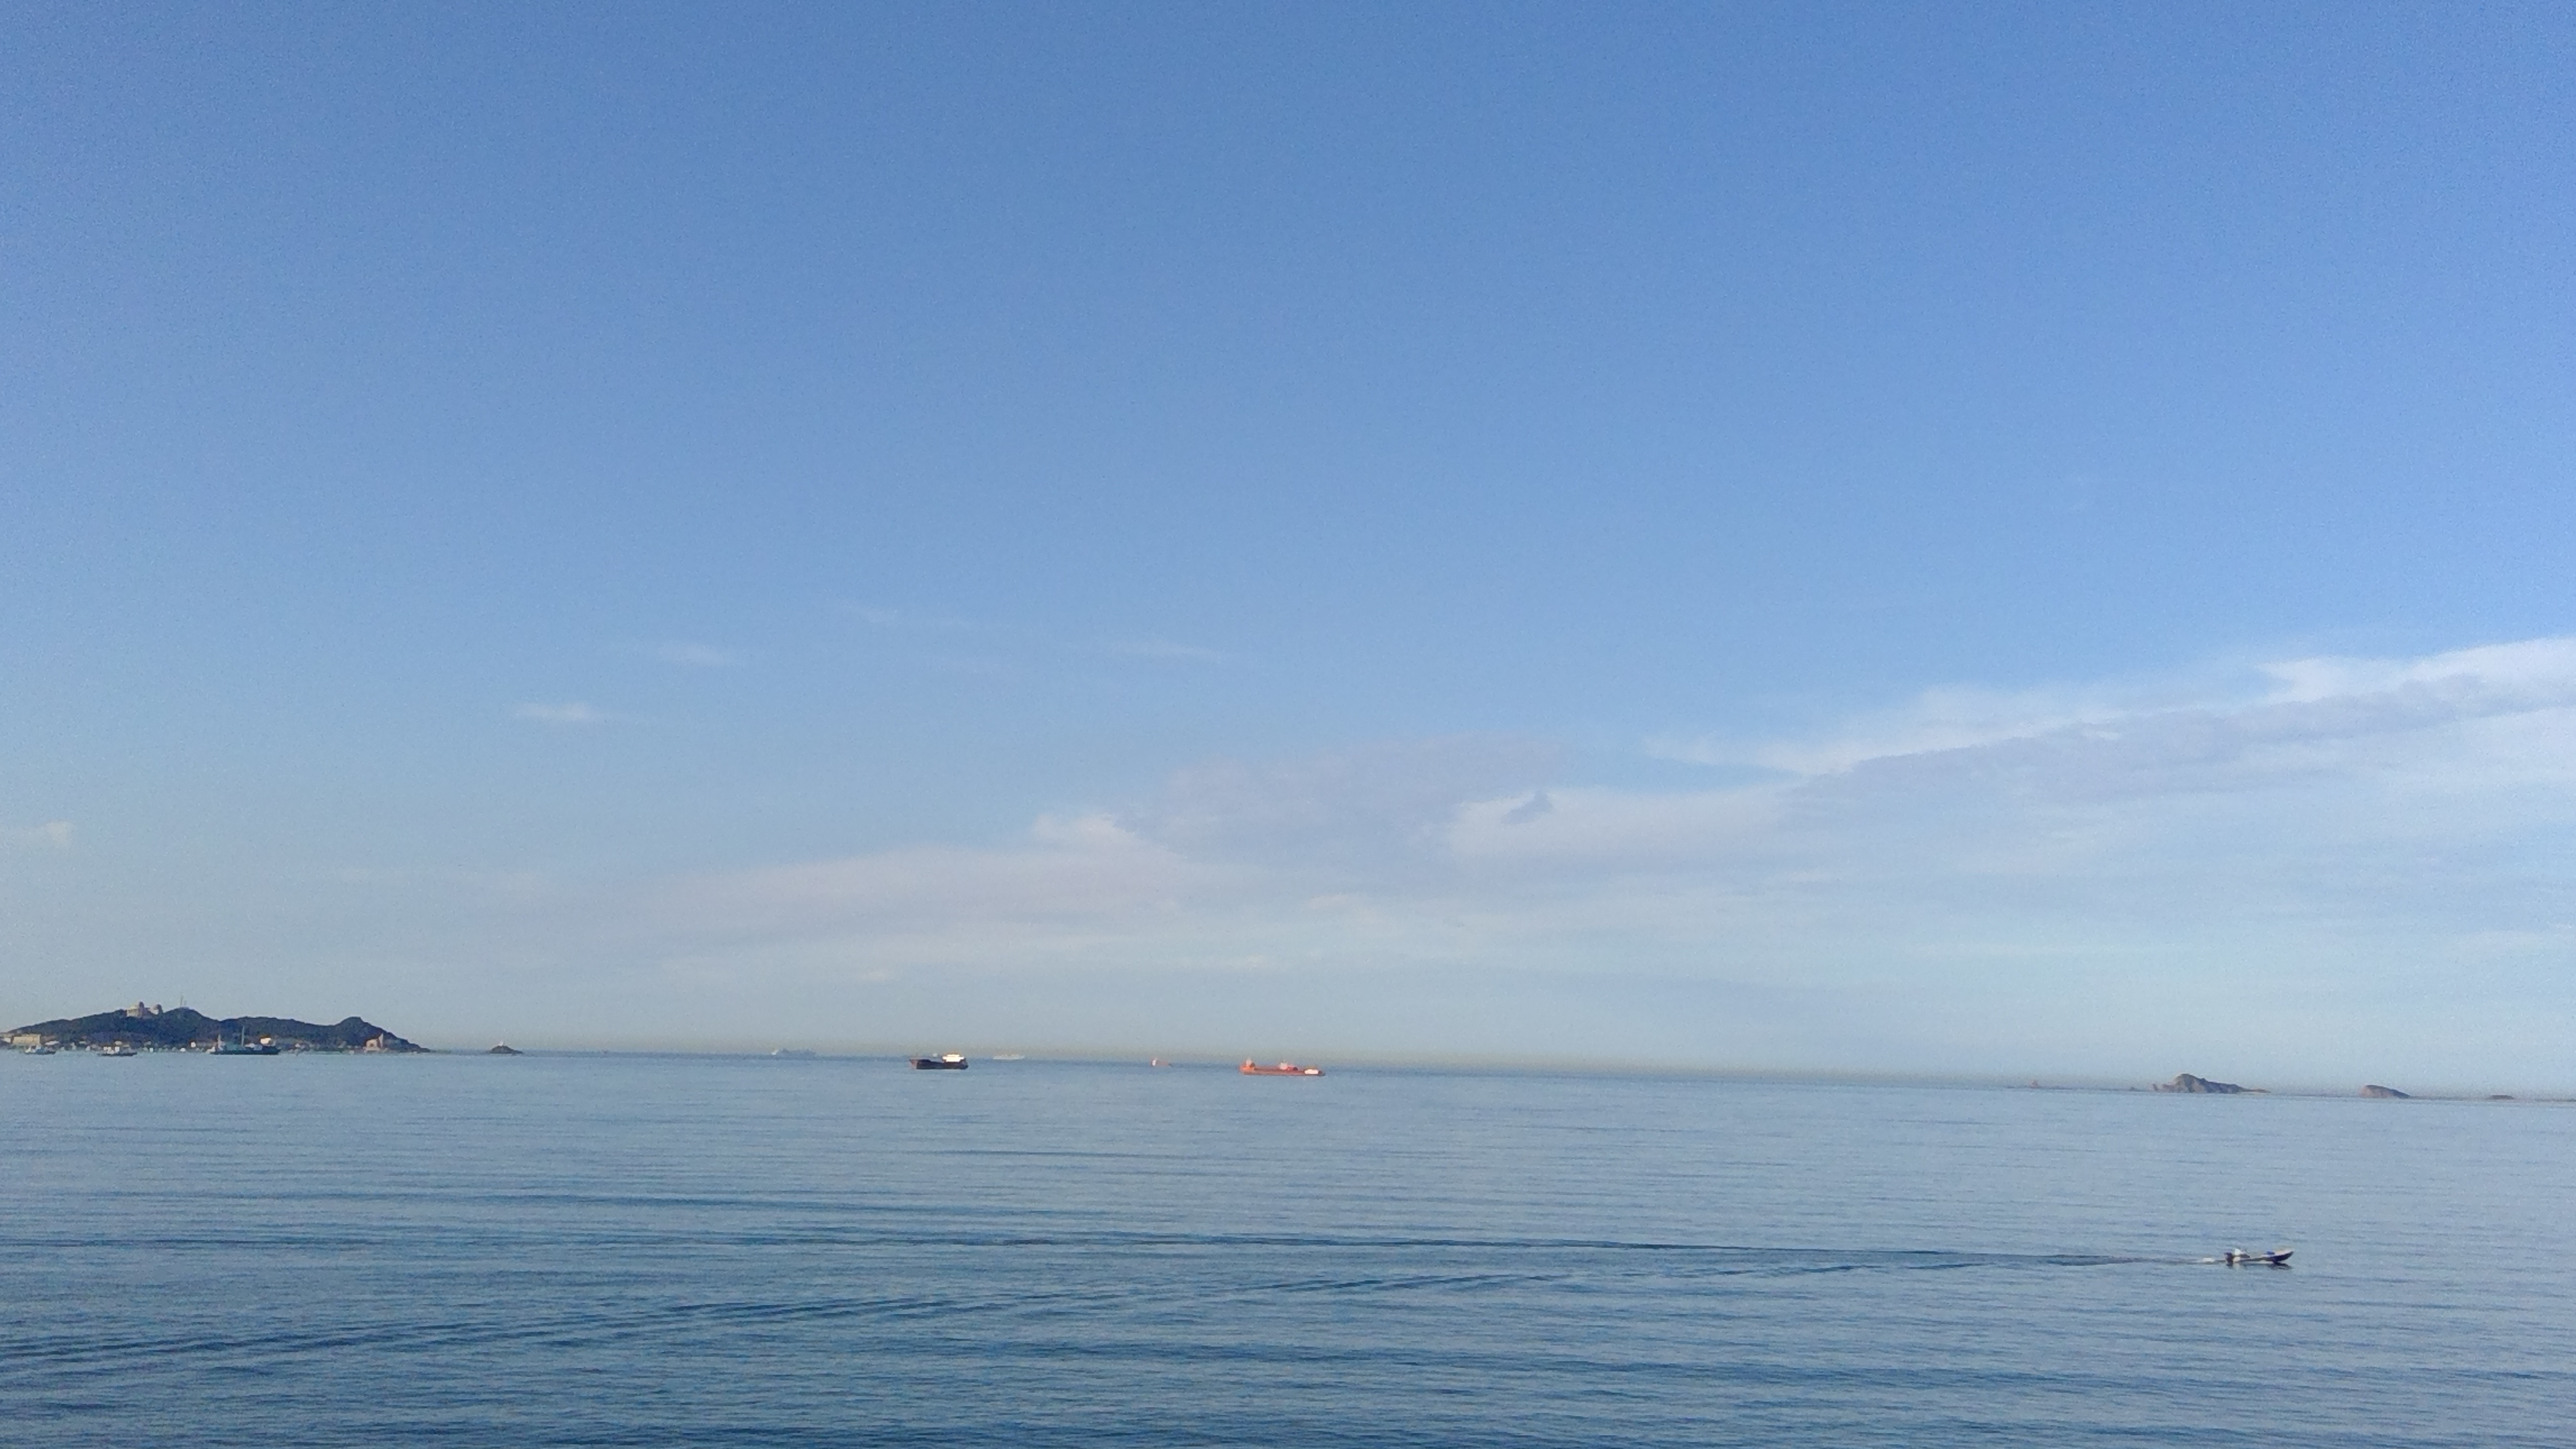boat: (2210, 1230, 2312, 1281), (908, 1047, 961, 1077)
